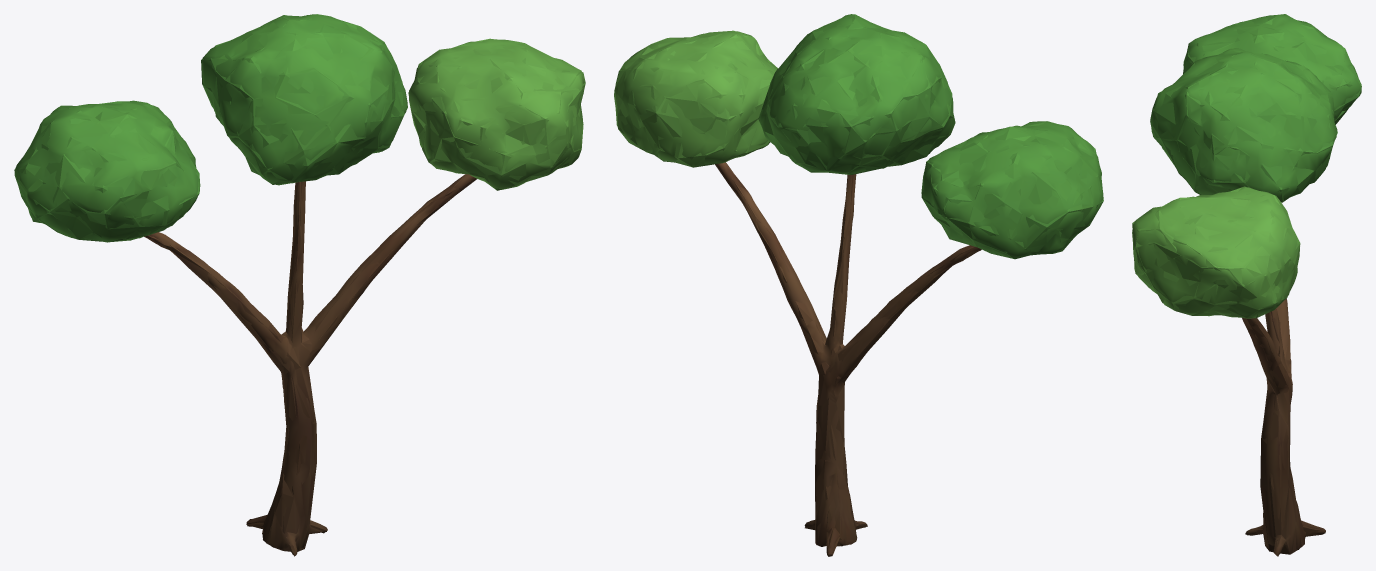
File: broadleaf_young_sparse.glb
3 views of the same model, side by side, from view 1: azimuth 30°, elevation 25°; view 2: azimuth 150°, elevation 25°; view 3: azimuth 270°, elevation 25° (orthographic). The views are drawn at different scales.
Parts seen in each view (by area): view 1: broadleaf_young_sparse_LOD1, broadleaf_young_sparse_LOD2; view 2: broadleaf_young_sparse_LOD1, broadleaf_young_sparse_LOD2; view 3: broadleaf_young_sparse_LOD1, broadleaf_young_sparse_LOD2.
Boxes of the visible parts, x1,y1,x2,y2 form: broadleaf_young_sparse_LOD1: (14, 14, 585, 555); broadleaf_young_sparse_LOD2: (14, 14, 585, 556); broadleaf_young_sparse_LOD1: (614, 14, 1103, 556); broadleaf_young_sparse_LOD2: (614, 14, 1103, 555); broadleaf_young_sparse_LOD1: (1132, 14, 1361, 555); broadleaf_young_sparse_LOD2: (1132, 14, 1361, 556).
Size of the model in its own units: 3.36 by 3.26 by 1.4.
